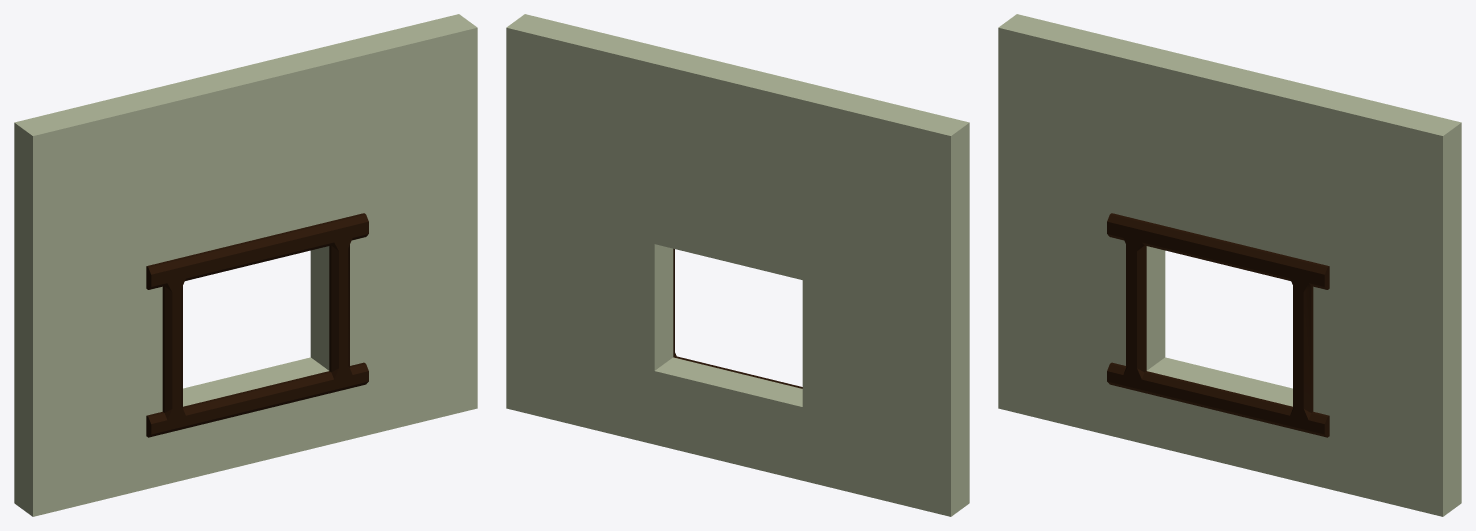
The model's file is Wall_Small02_FBX.fbx.
3 renders of one model, left to right at view 1: azimuth 30°, elevation 25°; view 2: azimuth 150°, elevation 25°; view 3: azimuth 330°, elevation 25°, orthographic.
Visible parts, largest first — view 1: Small wall one window011; view 2: Small wall one window011; view 3: Small wall one window011.
Part boxes in pixels (x1,y1,x2,y2): Small wall one window011: (14,14,477,516); Small wall one window011: (506,14,969,516); Small wall one window011: (998,14,1461,516).
Bounding box in the file's own units: 550 × 450 × 50.1.
